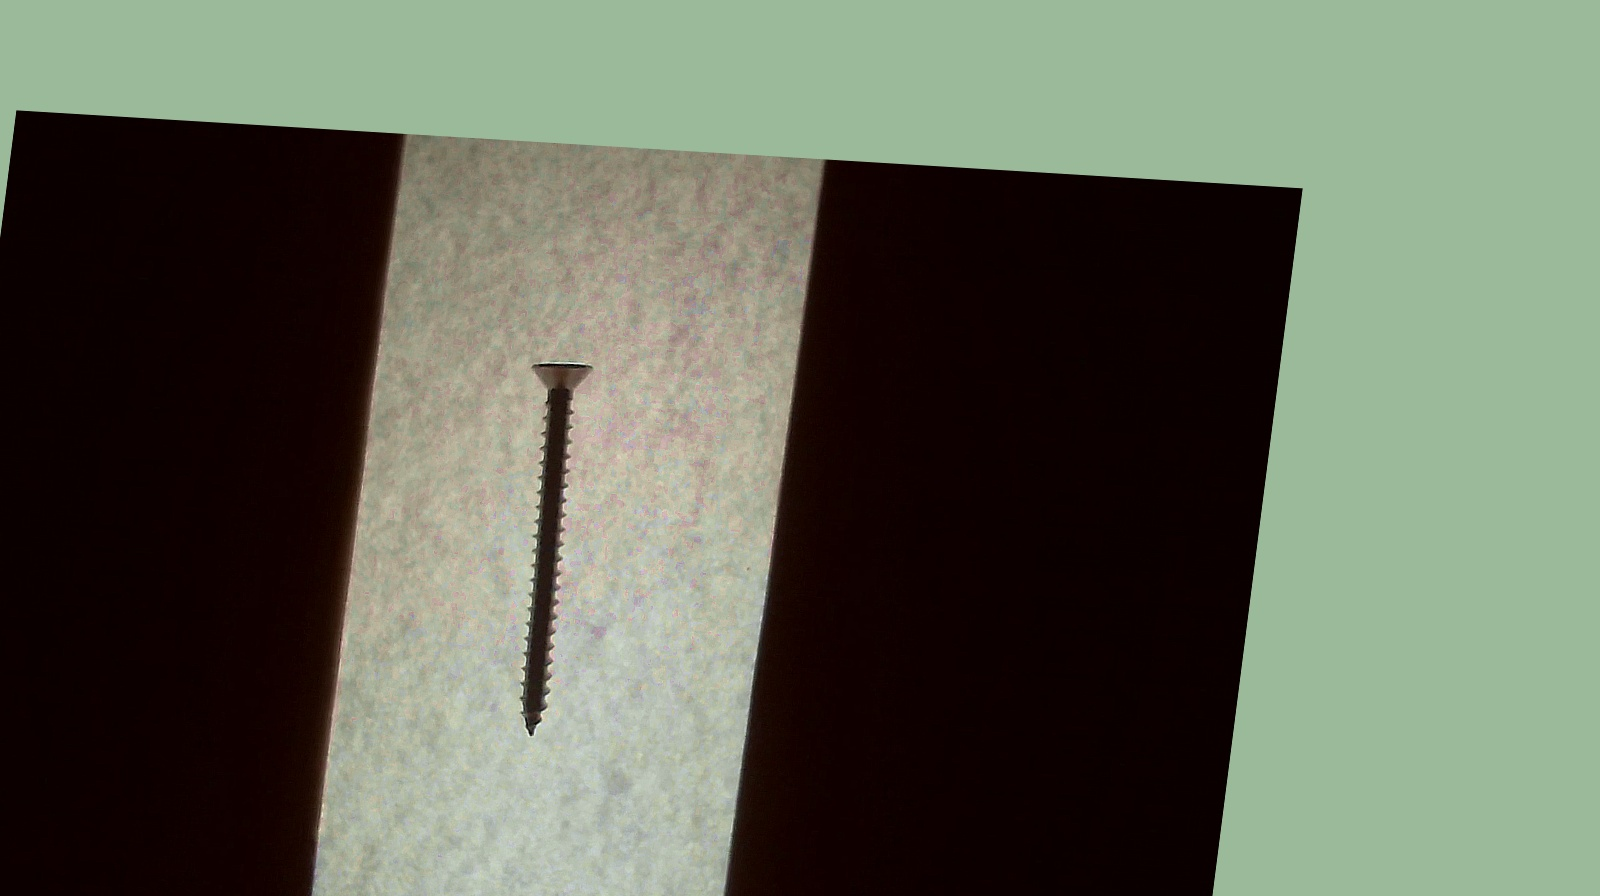S002: (476, 349, 612, 749)
